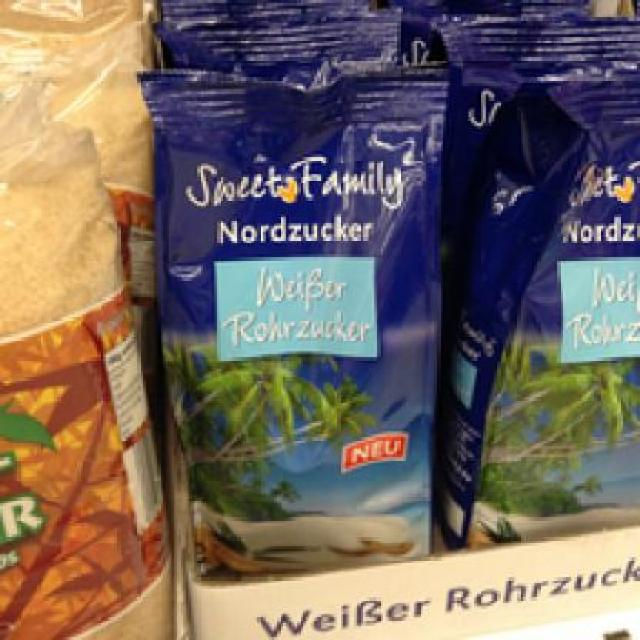Sugar: (134, 57, 446, 577), (445, 34, 638, 540), (0, 93, 172, 638)
